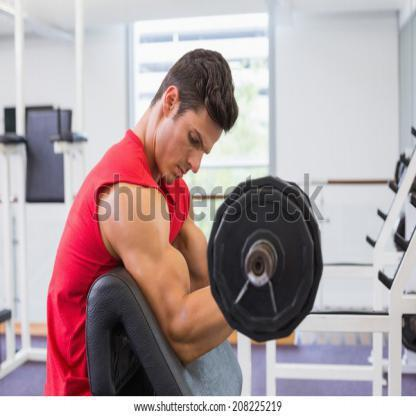Barbell: (243, 240, 276, 293)
